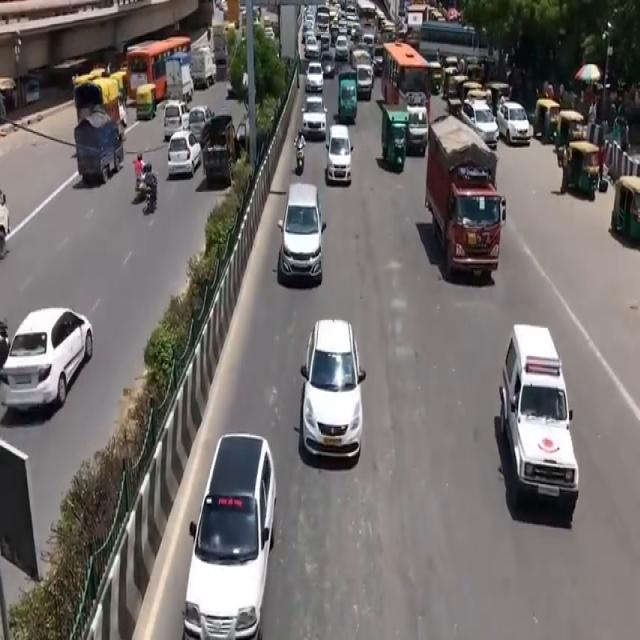BUS: (124, 34, 190, 116)
TRUCK: (428, 140, 506, 283)
